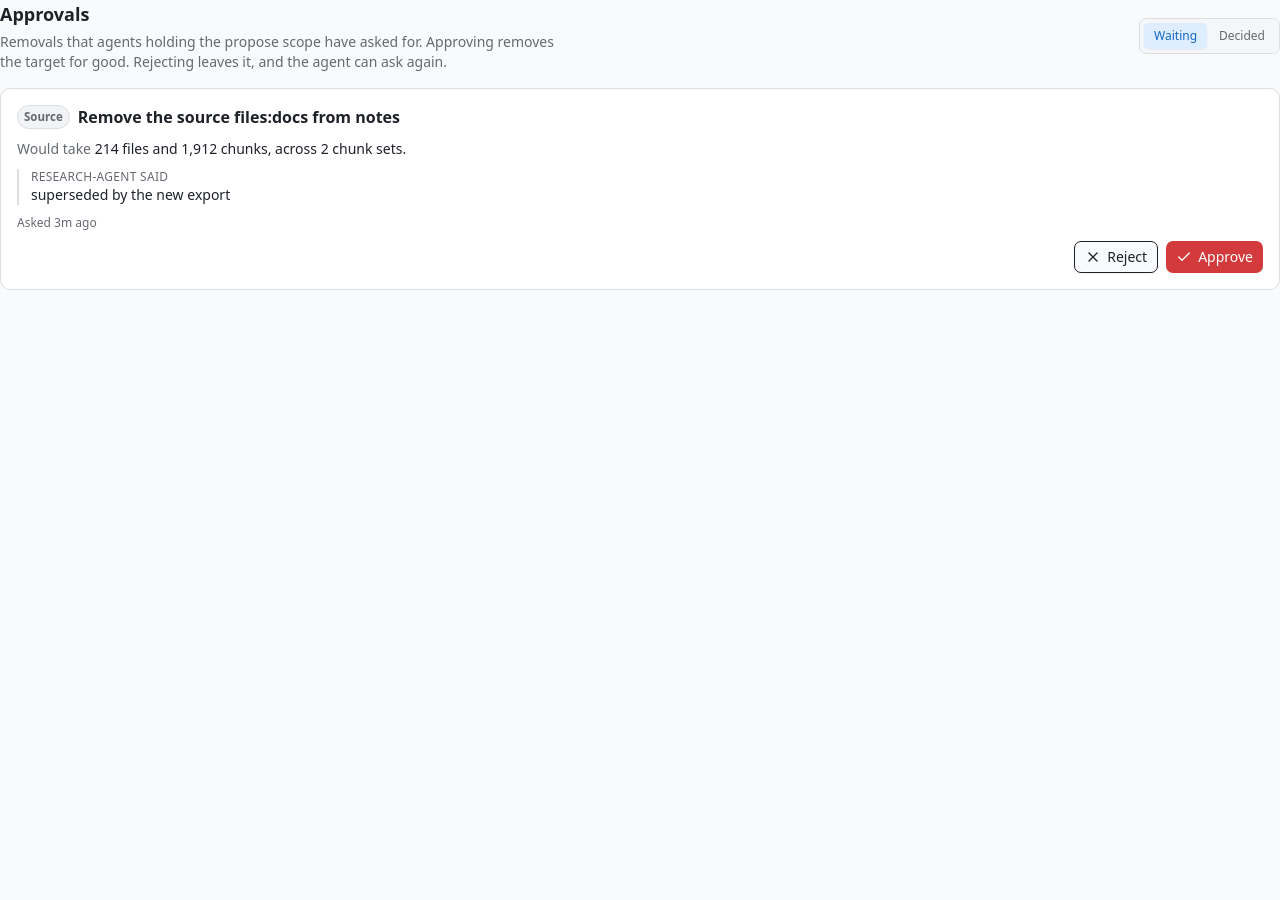
it: approving › approves on confirmation, reloads the list and tells the page something moved
The image size is (1280, 900).
Click the button with aria-label "Approve: Remove the source".
click(1215, 257)  # box left=1166, top=241, right=1263, bottom=273
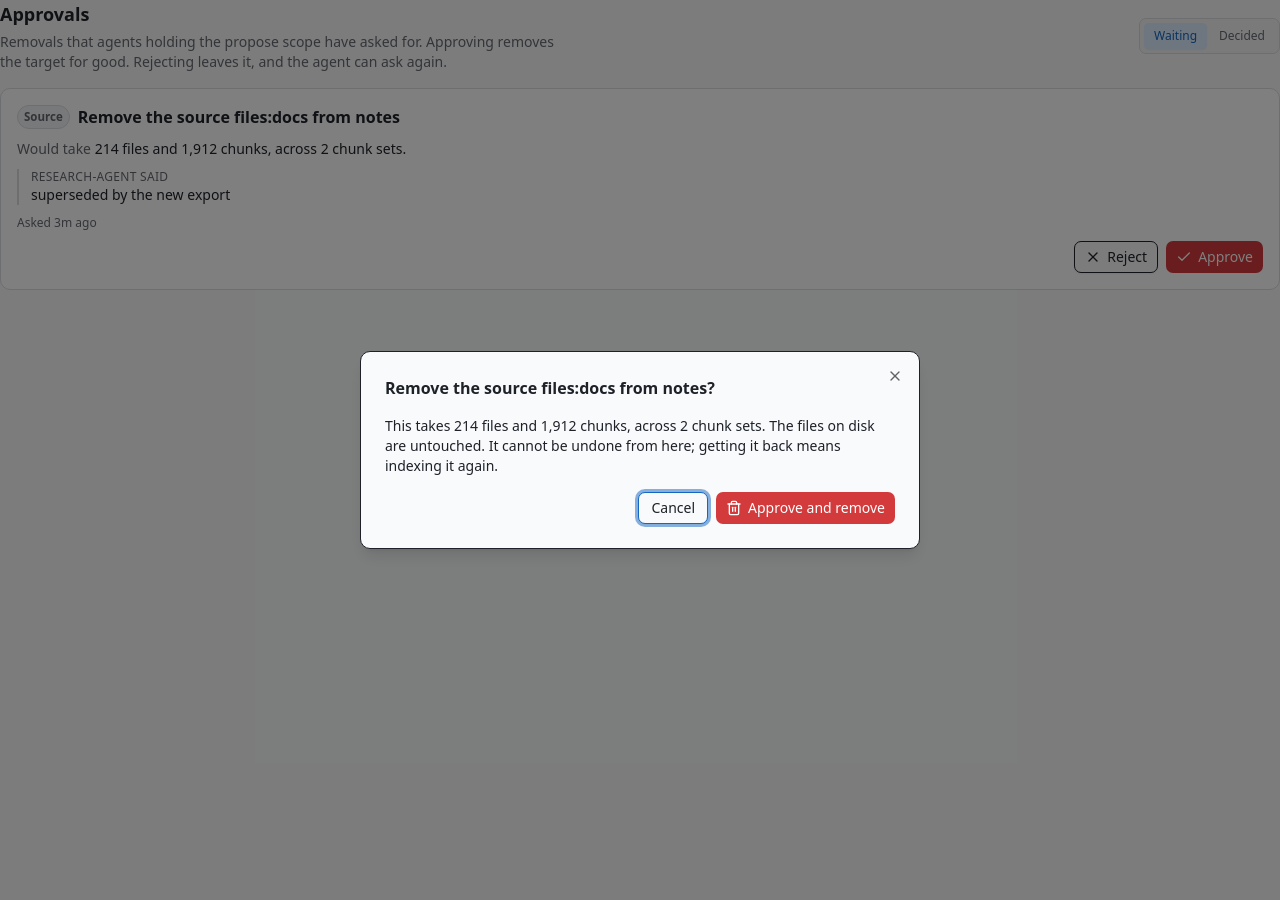
Click the button "Approve and remove".
click(806, 508)  # box left=716, top=492, right=895, bottom=524
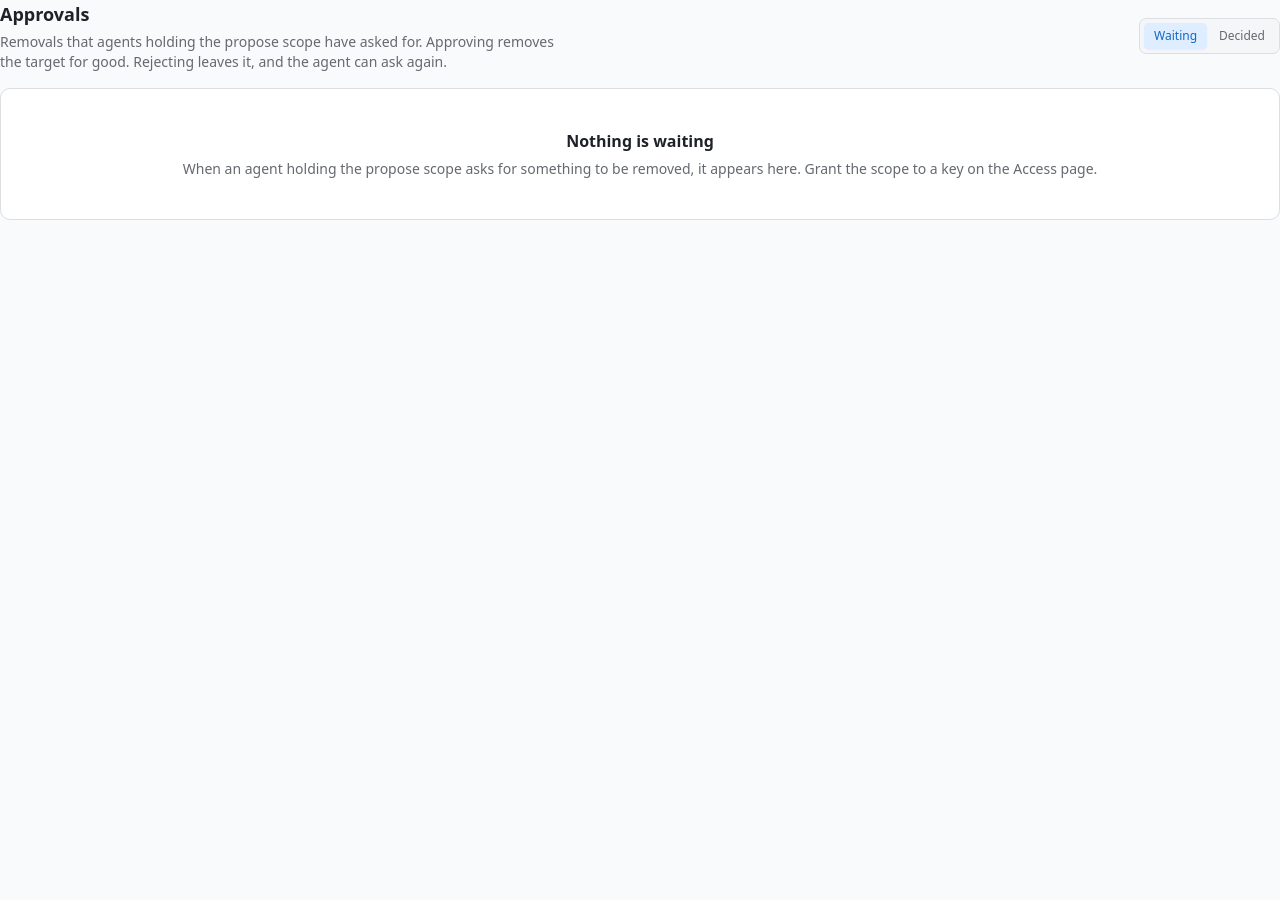
Check: the text "Nothing is waiting" is shown, box left=566, top=130, right=714, bottom=152
Check: the dialog is gone
